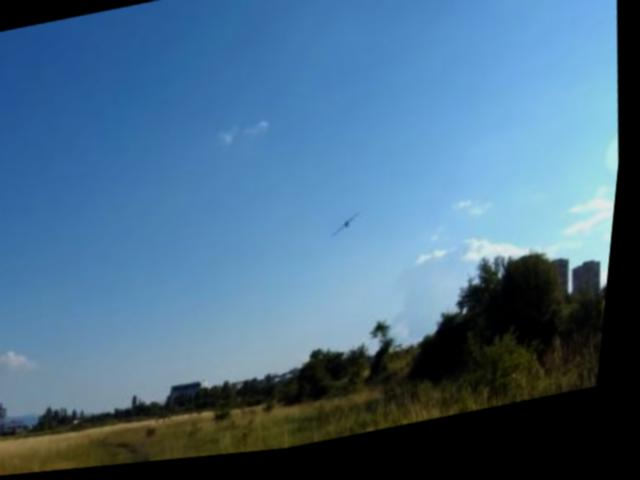uav: (325, 205, 380, 255)
